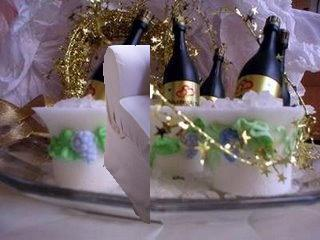tampered: (104, 46, 150, 224)
